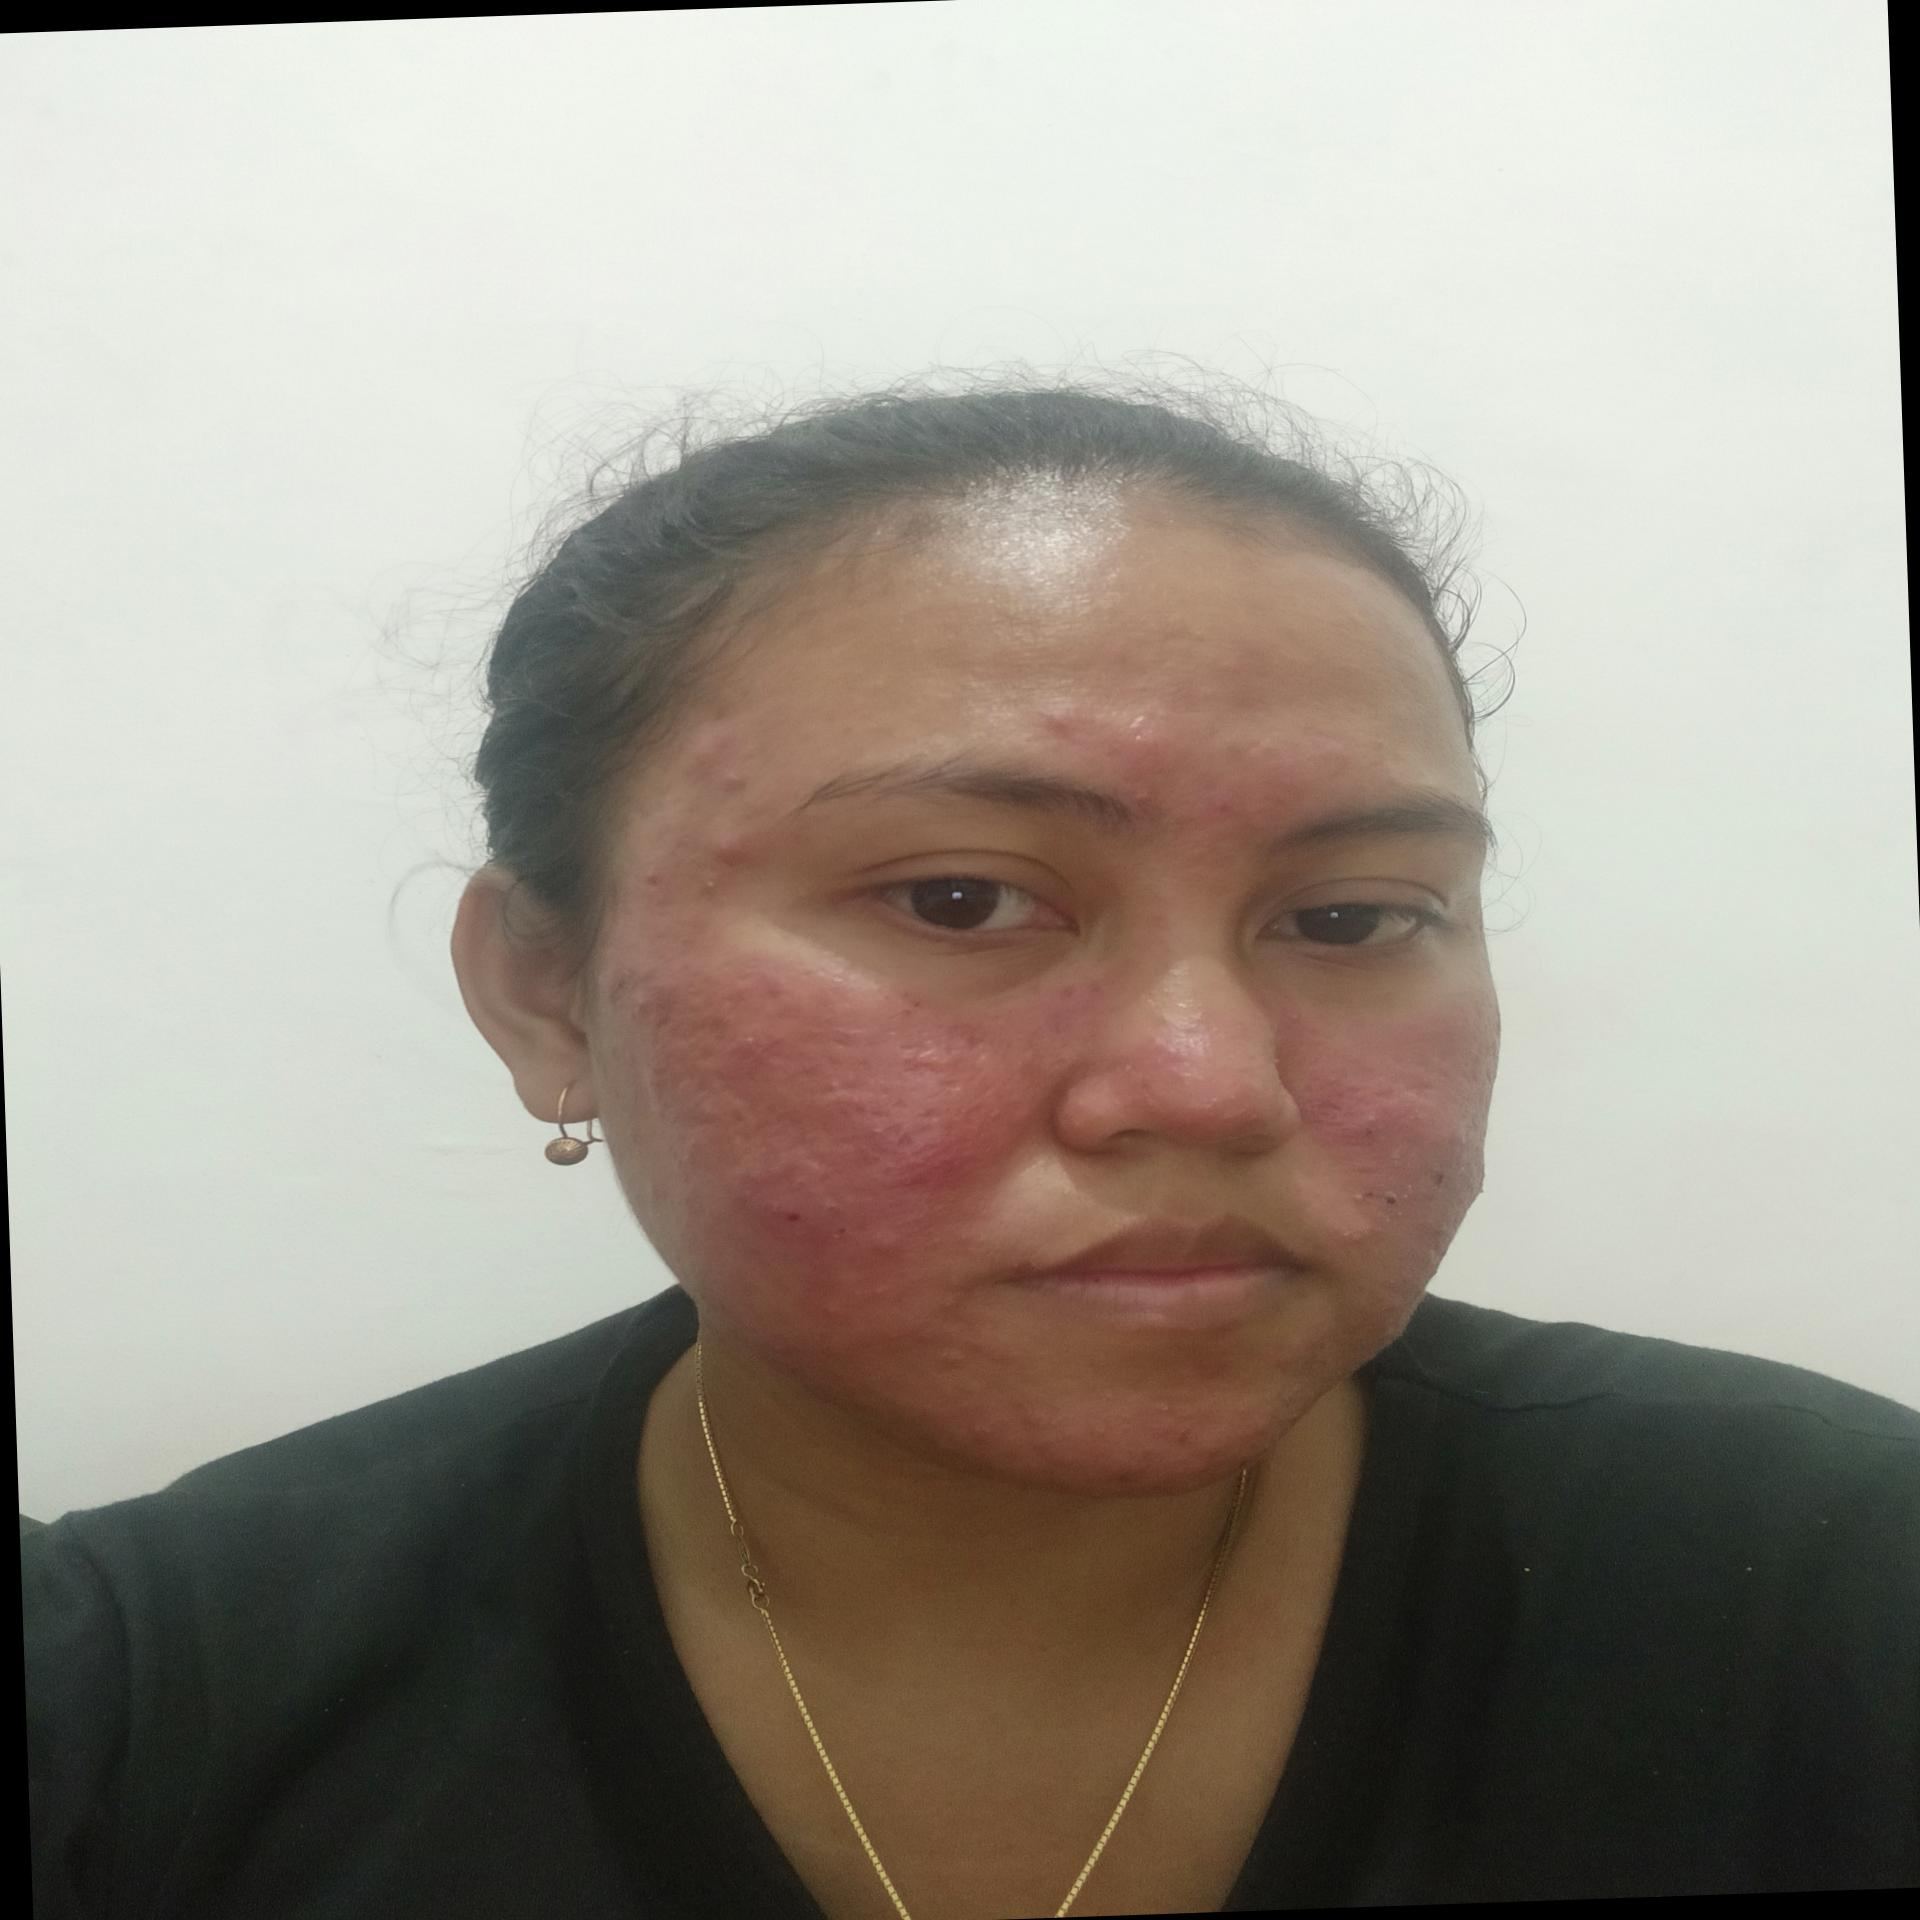Acne: (872, 1083, 1016, 1194), (1203, 744, 1357, 828), (672, 1080, 809, 1175), (1292, 1046, 1396, 1152), (795, 1013, 879, 1118), (1106, 714, 1183, 819), (693, 979, 786, 1058), (677, 723, 758, 798), (1241, 1326, 1335, 1389), (1037, 972, 1115, 1036), (891, 1023, 993, 1064), (1384, 1069, 1436, 1145), (768, 1194, 832, 1252), (622, 972, 679, 1034), (858, 1203, 914, 1262), (800, 1292, 856, 1349), (1143, 1009, 1194, 1064), (1099, 1459, 1155, 1496), (1027, 702, 1074, 740), (695, 830, 749, 862), (893, 981, 932, 1023), (925, 1343, 971, 1377), (965, 1410, 1011, 1442), (1157, 1414, 1196, 1447), (645, 1057, 670, 1102), (1150, 1391, 1182, 1421), (867, 1278, 897, 1306), (1211, 649, 1241, 675), (635, 867, 663, 890), (696, 872, 721, 895)
